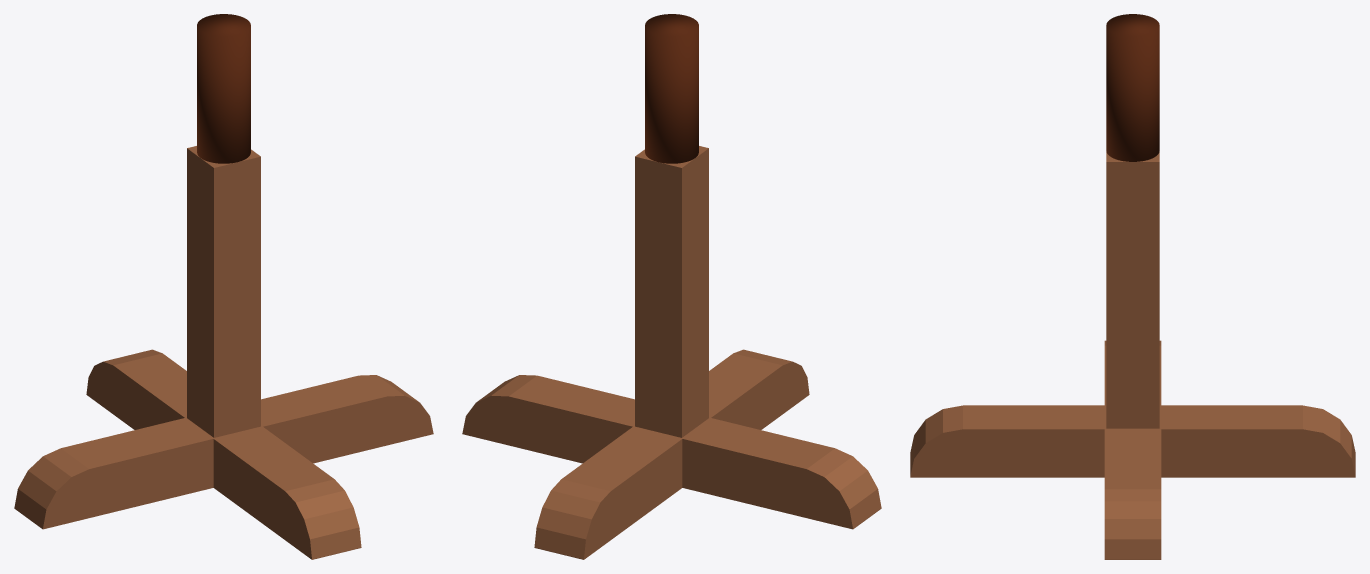
The model's file is target_rotating_bottom.glb.
3 renders of one model, left to right at view 1: azimuth 30°, elevation 25°; view 2: azimuth 150°, elevation 25°; view 3: azimuth 270°, elevation 25°, orthographic.
Parts seen in each view (by area): view 1: target_rotating_bottom; view 2: target_rotating_bottom; view 3: target_rotating_bottom.
Boxes of the visible parts, x1=… form: target_rotating_bottom: x1=14, y1=14, x2=433, y2=559; target_rotating_bottom: x1=462, y1=14, x2=881, y2=559; target_rotating_bottom: x1=910, y1=14, x2=1355, y2=559.
Bounding box in the file's own units: 2.65 × 2.89 × 2.65.
